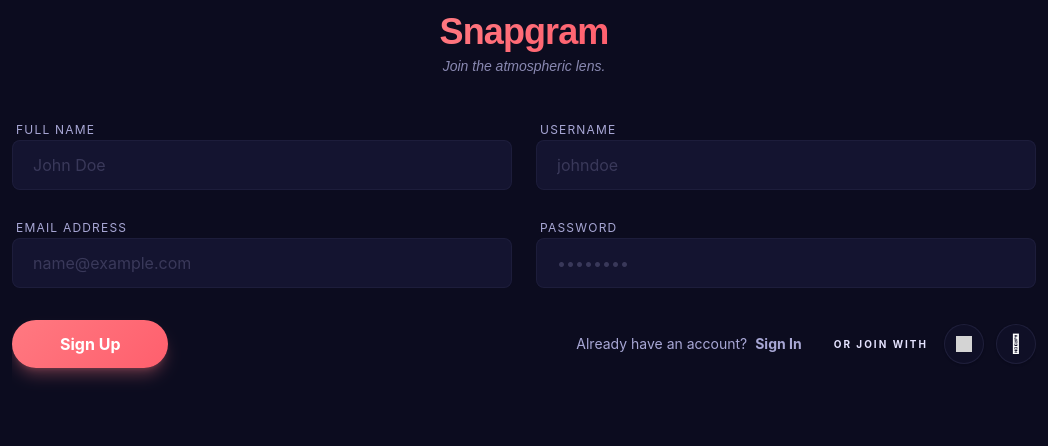
Test: SignUpForm › should show error for username shorter than 3 characters
Type "ab" into the field with placeholder "johndoe" at (786, 165), box [536,140,1036,190]
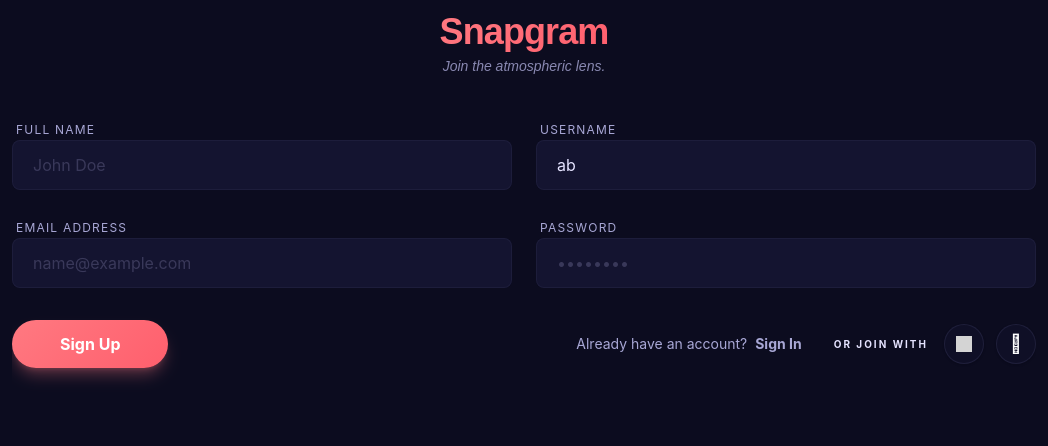
Click the button "Sign Up" at (90, 344), box [12,320,168,368]
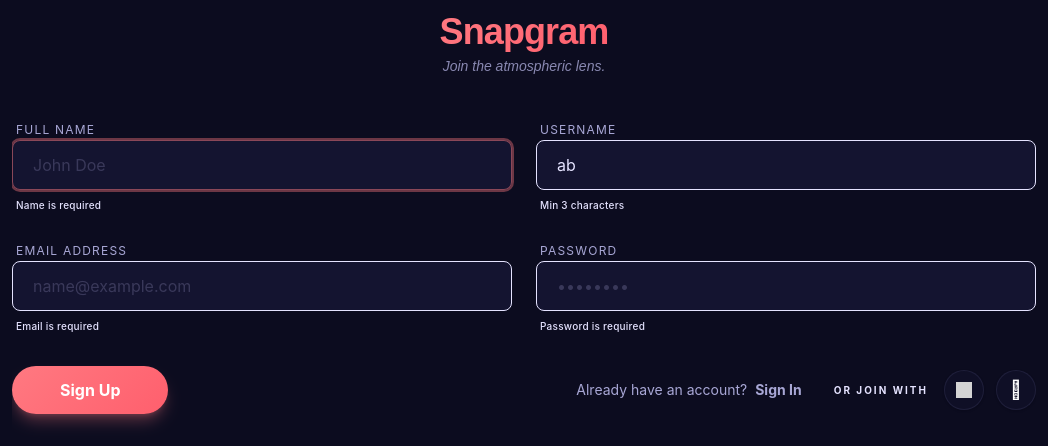
Now the text "Min 3 characters" is shown, box [540,199,624,211]
